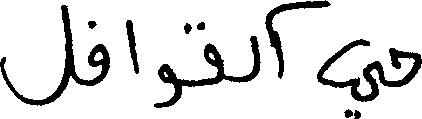X: (0, 0, 72, 110), (319, 0, 376, 118), (391, 43, 421, 91), (88, 16, 106, 90), (159, 59, 182, 112), (271, 0, 282, 83), (205, 38, 222, 89), (126, 15, 137, 78), (251, 31, 259, 84)
